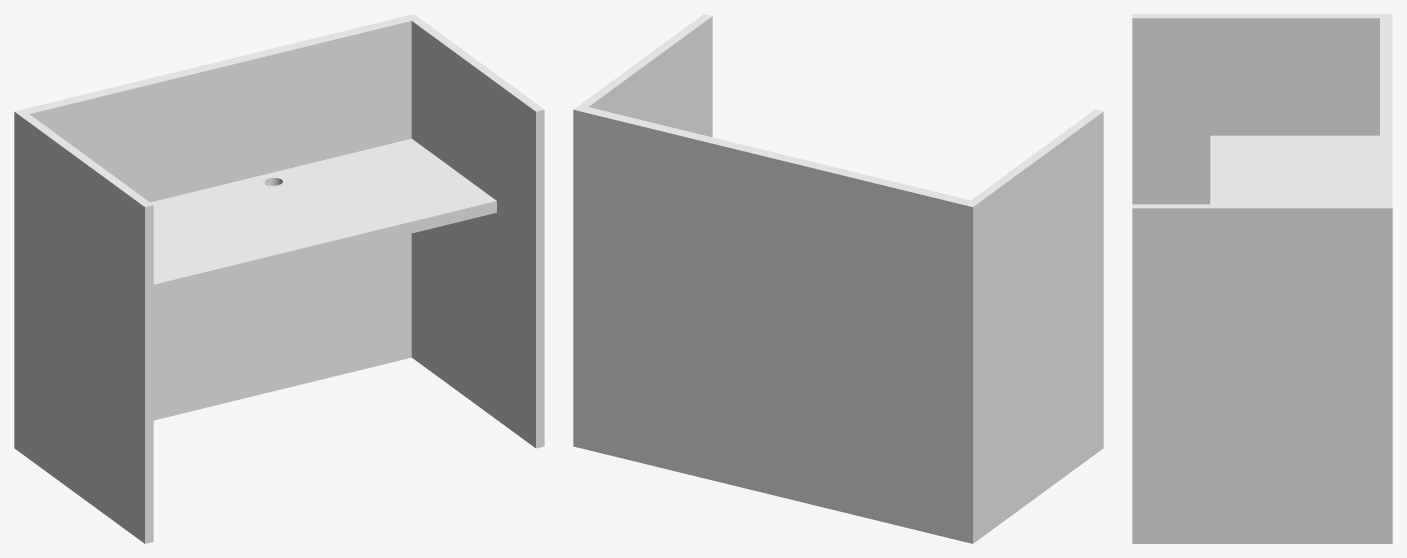
File: OfficeDesk.fbx
The picture shows the model from 3 angles, left to right: view 1: azimuth 30°, elevation 25°; view 2: azimuth 150°, elevation 25°; view 3: azimuth 270°, elevation 25°; orthographic projection.
Parts seen in each view (by area): view 1: OfficeDesk; view 2: OfficeDesk; view 3: OfficeDesk.
Part boxes in pixels (x1=…): OfficeDesk: x1=14, y1=14, x2=544, y2=543; OfficeDesk: x1=573, y1=14, x2=1103, y2=543; OfficeDesk: x1=1132, y1=14, x2=1392, y2=543.
Size of what is drawn, in the model's own units: 182 by 147 by 103.
